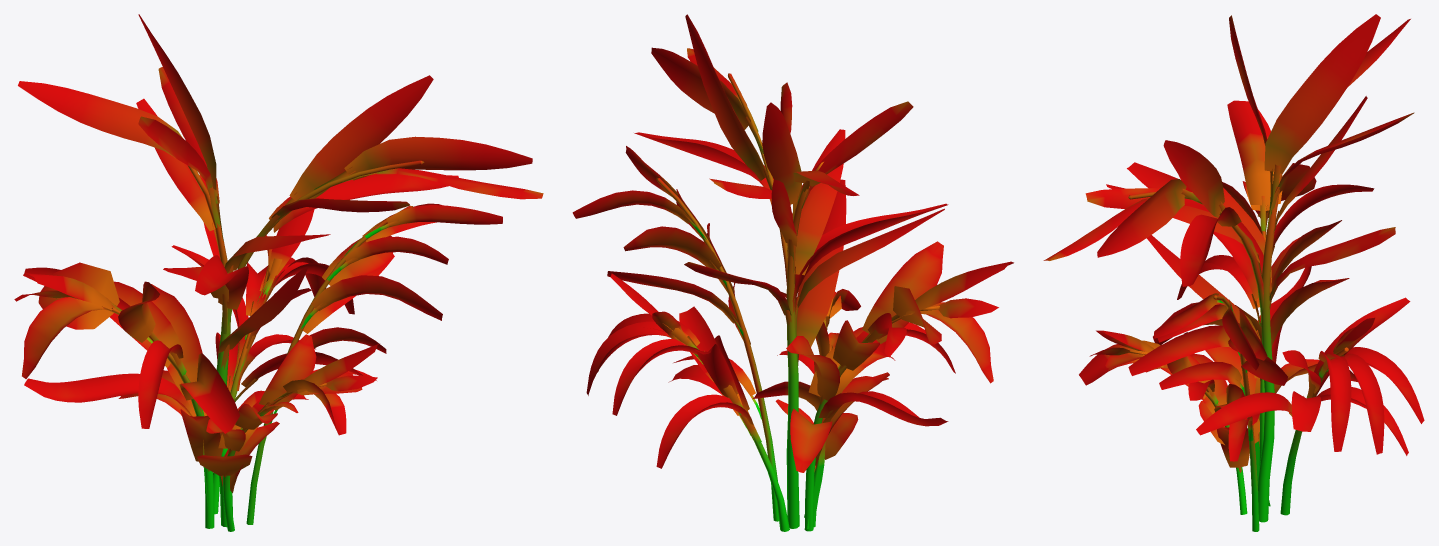
File: Var3_LOD0.fbx
3 views of the same model, side by side, from view 1: azimuth 30°, elevation 25°; view 2: azimuth 150°, elevation 25°; view 3: azimuth 270°, elevation 25° (orthographic). The views are drawn at different scales.
Visible parts, largest first — view 1: _f9be_Var3_LOD0; view 2: _f9be_Var3_LOD0; view 3: _f9be_Var3_LOD0.
Boxes of the visible parts, left/top/right/bottom form: _f9be_Var3_LOD0: left=14, top=14, right=543, bottom=531; _f9be_Var3_LOD0: left=572, top=14, right=1013, bottom=531; _f9be_Var3_LOD0: left=1043, top=14, right=1424, bottom=531.
Size of the model in its own units: 176 by 185 by 130.
